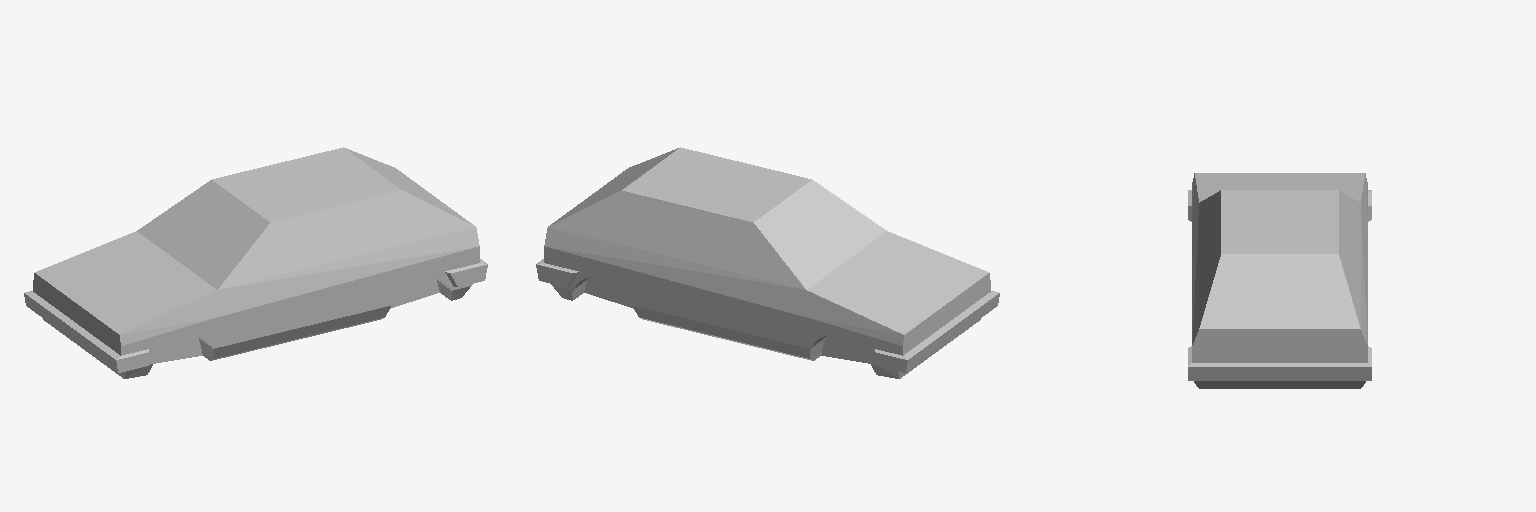
The model's file is vw-polo.obj.
3 renders of one model, left to right at view 1: azimuth 30°, elevation 25°; view 2: azimuth 150°, elevation 25°; view 3: azimuth 270°, elevation 25°, orthographic.
Visible parts, largest first — view 1: vw-polo-simple_Plane.001; view 2: vw-polo-simple_Plane.001; view 3: vw-polo-simple_Plane.001.
Boxes of the visible parts, <box> form: vw-polo-simple_Plane.001: <box>24,147,487,378</box>; vw-polo-simple_Plane.001: <box>536,147,999,378</box>; vw-polo-simple_Plane.001: <box>1188,173,1371,388</box>.
Bounding box in the file's own units: 3.72 × 1.12 × 1.6.